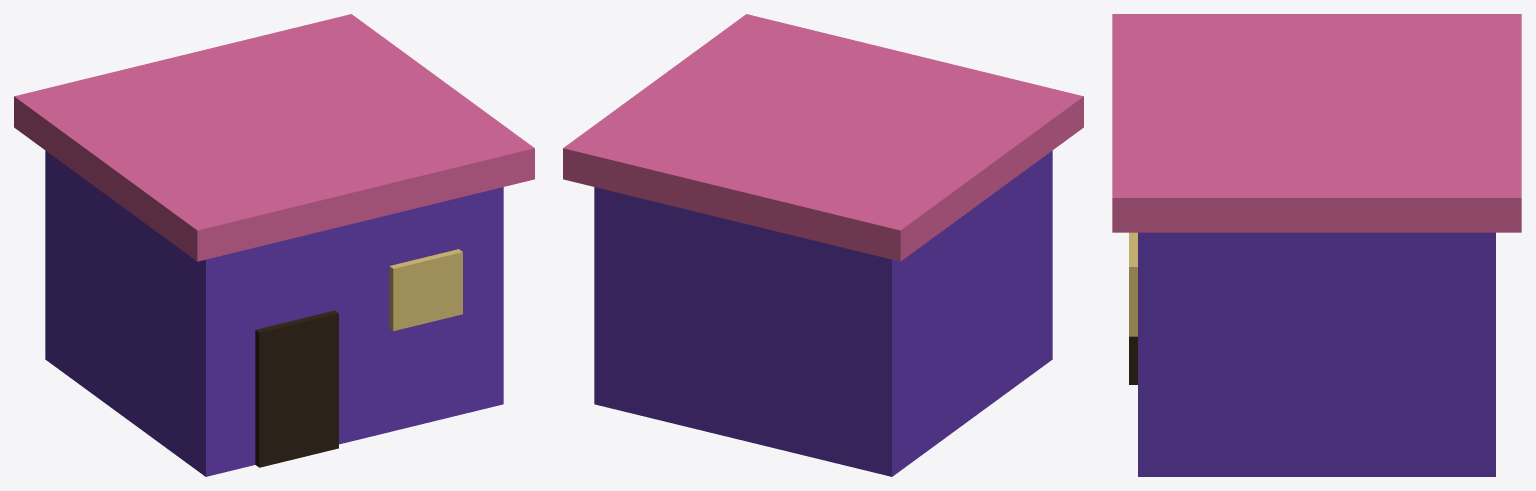
Rendered from bld_house.glb.
The picture shows the model from 3 angles, left to right: view 1: azimuth 30°, elevation 25°; view 2: azimuth 150°, elevation 25°; view 3: azimuth 270°, elevation 25°; orthographic projection. The views are drawn at different scales.
Parts seen in each view (by area): view 1: bld_house; view 2: bld_house; view 3: bld_house.
Boxes of the visible parts, left/top/right/bottom form: bld_house: left=14, top=14, right=534, bottom=476; bld_house: left=563, top=14, right=1083, bottom=476; bld_house: left=1112, top=14, right=1521, bottom=476.
Bounding box in the file's own units: 3.4 × 2.5 × 3.2.
